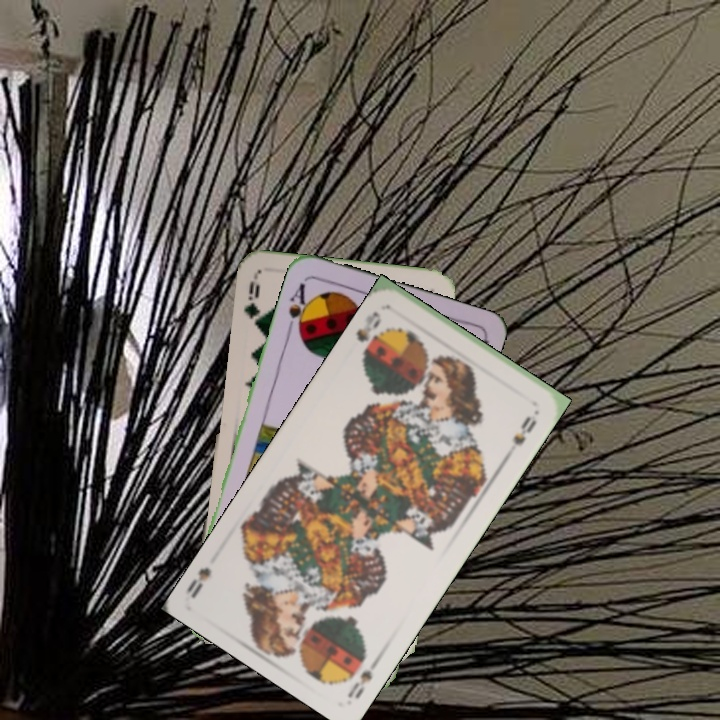G9: (240, 274, 261, 329)
SA: (282, 279, 314, 338)
SO: (343, 650, 385, 702), (352, 307, 385, 345)
